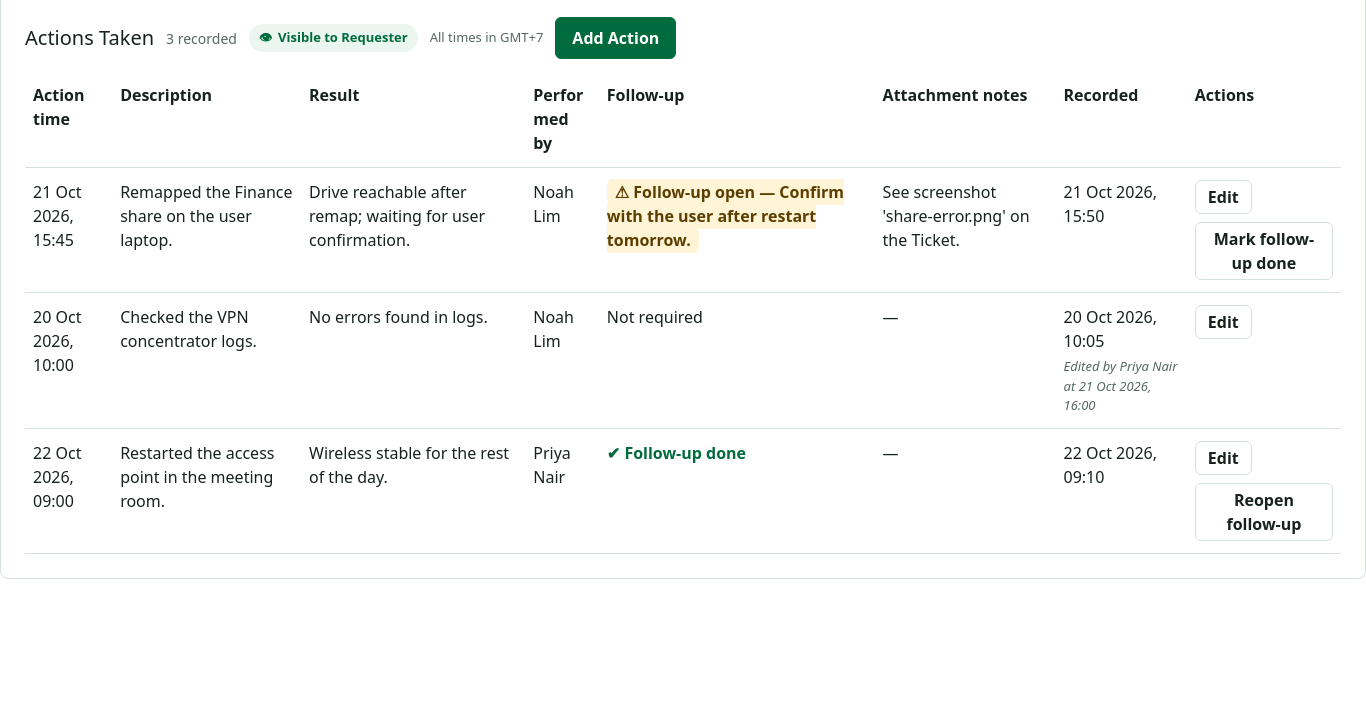
it: UI-08: locked ticket statuses › UI-08: handles 409 TICKET_ACTIONS_LOCKED on save and refreshes the ticket
Check: the text "Remapped the Finance share on the user laptop." is shown, box 112,168 -> 301,292
Step 1. Click the button "Edit" in the row of "21 Oct 2026, 15:45" → (1223,197), box 1195,180 -> 1252,214
(page scrolled)
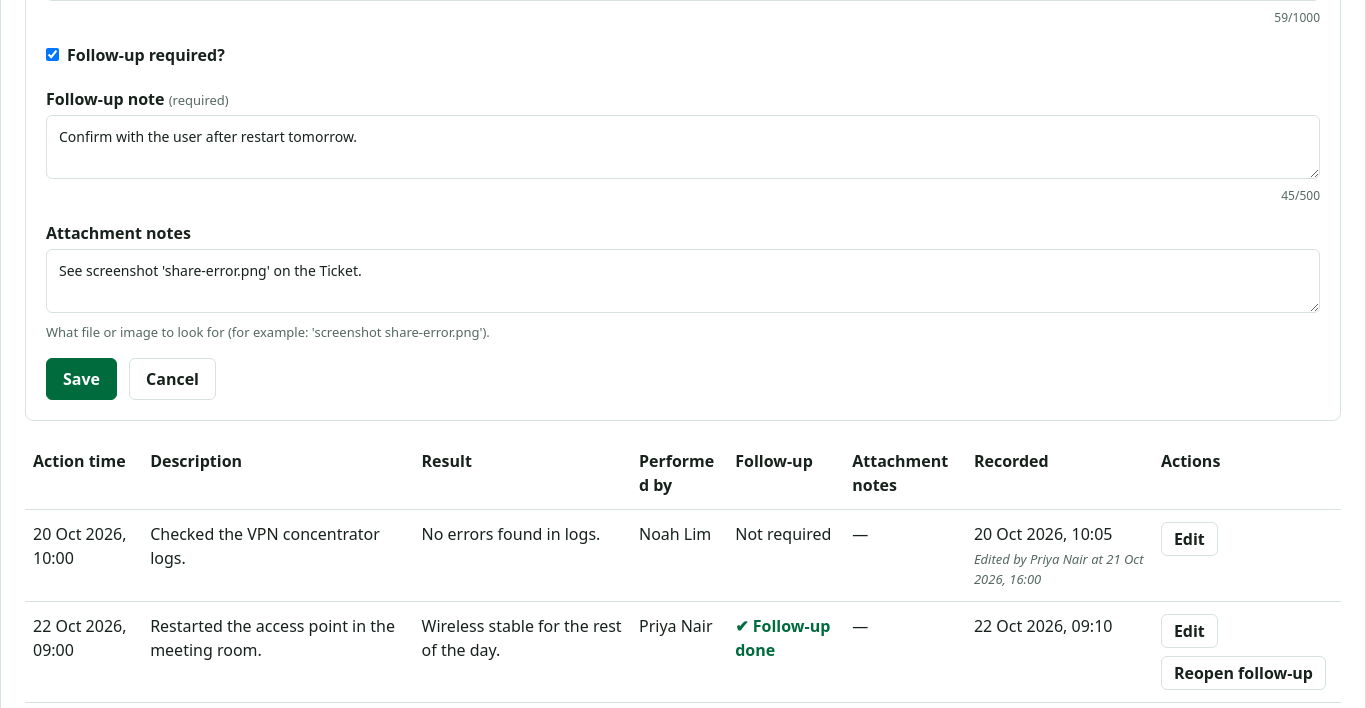
Step 2. Click the button "Save" → (82,379), box 46,358 -> 117,400
(page scrolled)
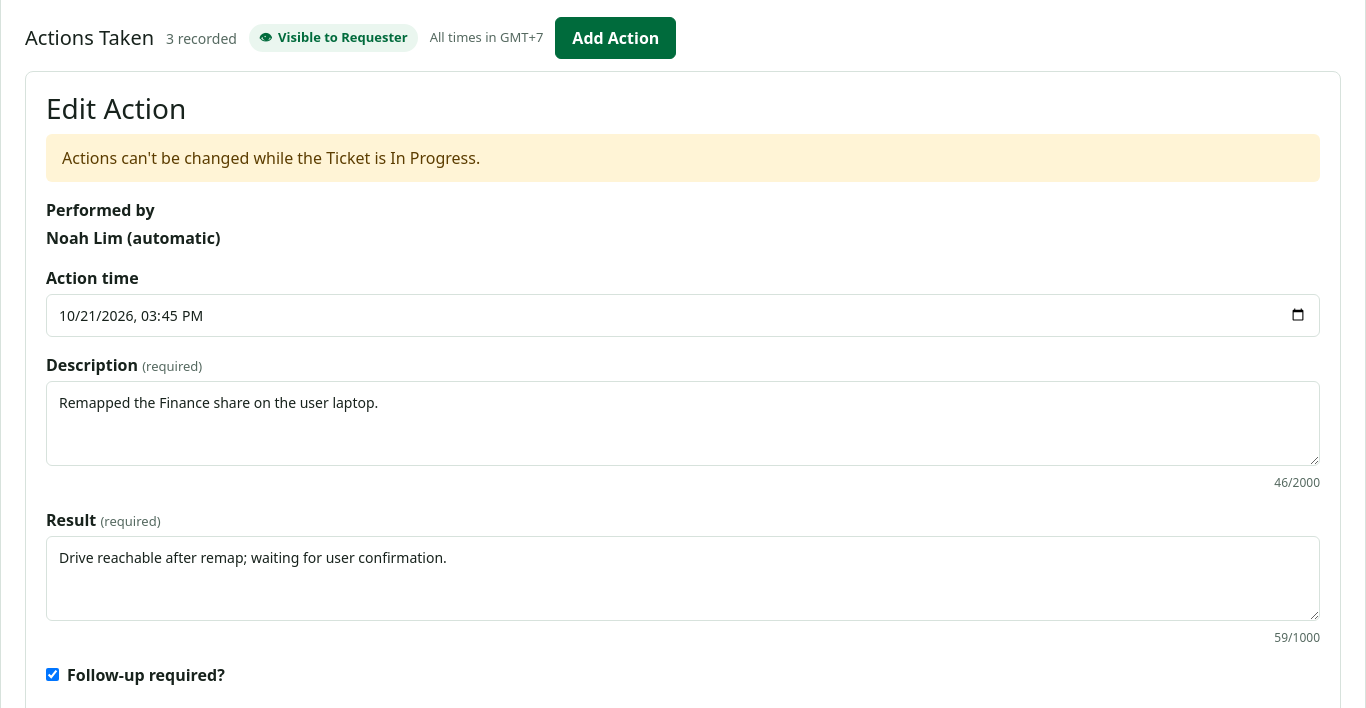
Check: the text "Actions can't be changed while the Ticket is In Progress." is shown, box 62,147 -> 480,169
